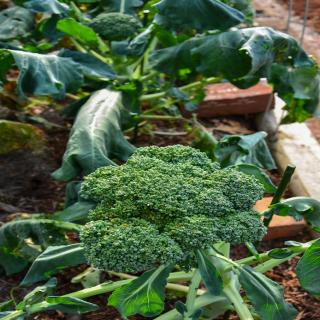Broccoli: (78, 143, 267, 275), (88, 12, 143, 40)
